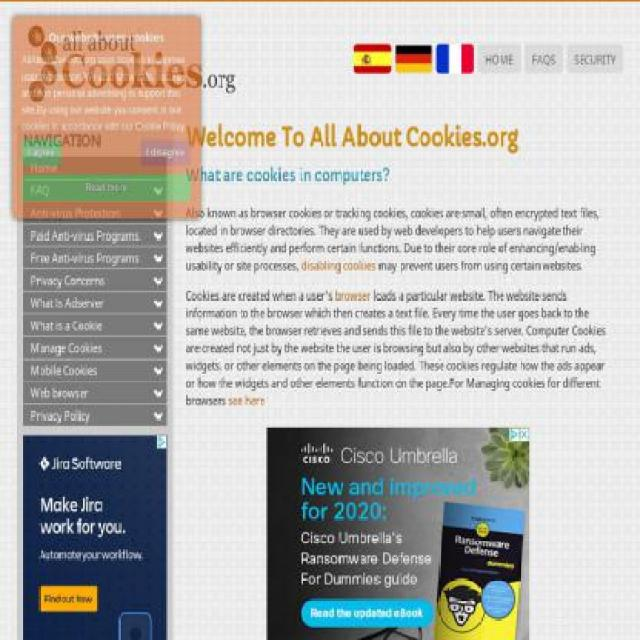button: (17, 15, 241, 117), (23, 179, 168, 201), (23, 269, 168, 291), (23, 359, 168, 381), (23, 157, 168, 178), (23, 202, 168, 223), (23, 225, 168, 246), (23, 247, 168, 268), (23, 292, 168, 313), (23, 314, 168, 335), (23, 337, 168, 358), (23, 382, 168, 403), (23, 405, 168, 426), (567, 44, 624, 73), (478, 44, 520, 73), (353, 44, 392, 73), (436, 44, 475, 73), (395, 44, 433, 73), (525, 44, 563, 73)
